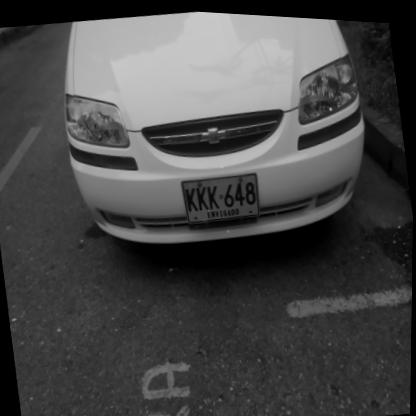placa: (176, 163, 266, 230)
